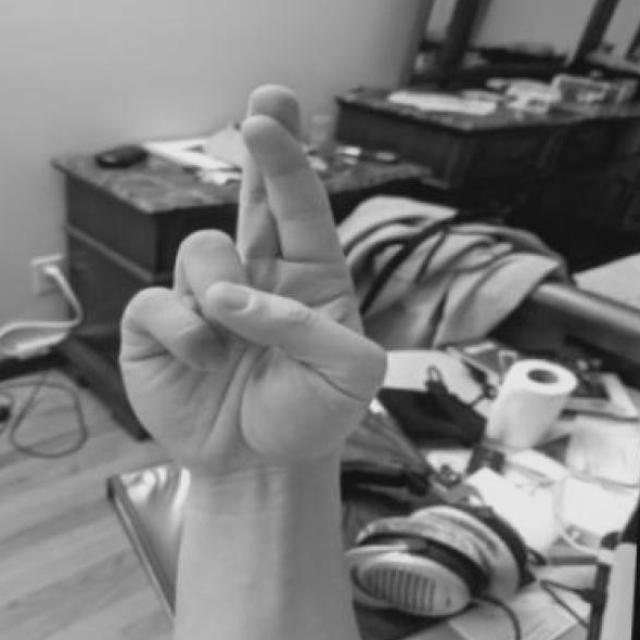R: (101, 77, 417, 512)
